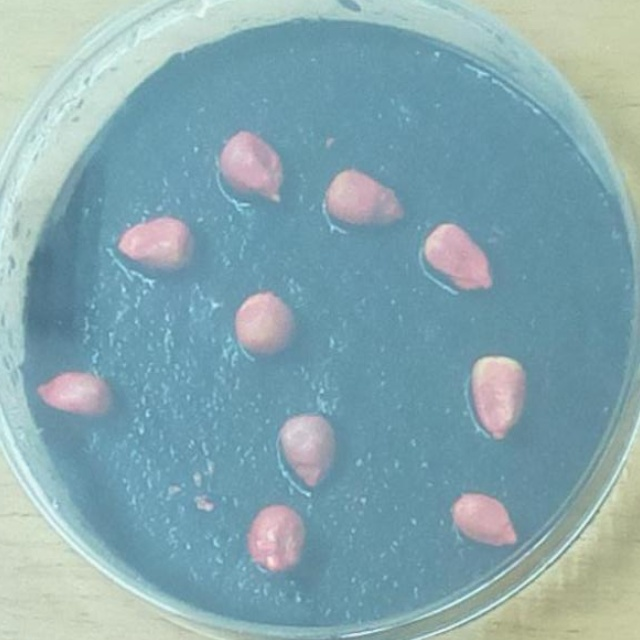Zea mays: (413, 214, 501, 301), (462, 346, 534, 448), (213, 126, 291, 215), (318, 163, 413, 236), (108, 209, 203, 280), (272, 408, 345, 498), (239, 496, 313, 584), (444, 483, 528, 559), (227, 282, 303, 366), (27, 365, 120, 428)
